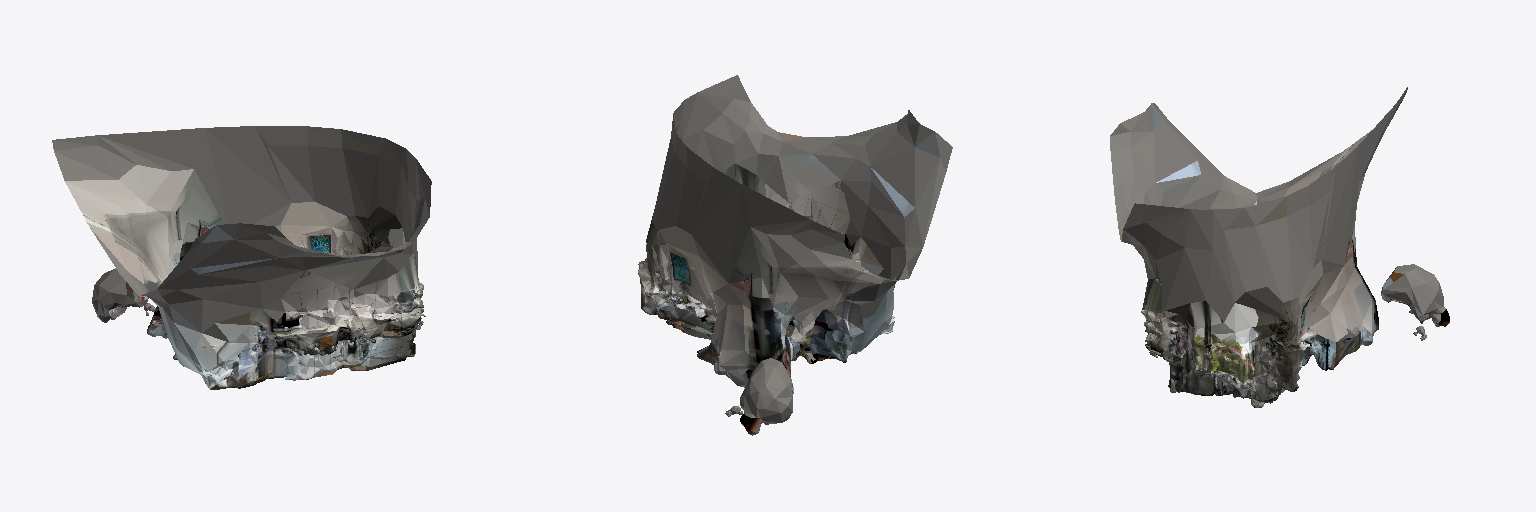
The picture shows the model from 3 angles: view 1: azimuth 30°, elevation 25°; view 2: azimuth 150°, elevation 25°; view 3: azimuth 270°, elevation 25°; orthographic projection.
Size of the model in its own units: 7.38 by 5.21 by 7.81.
4 materials, 4 textured.